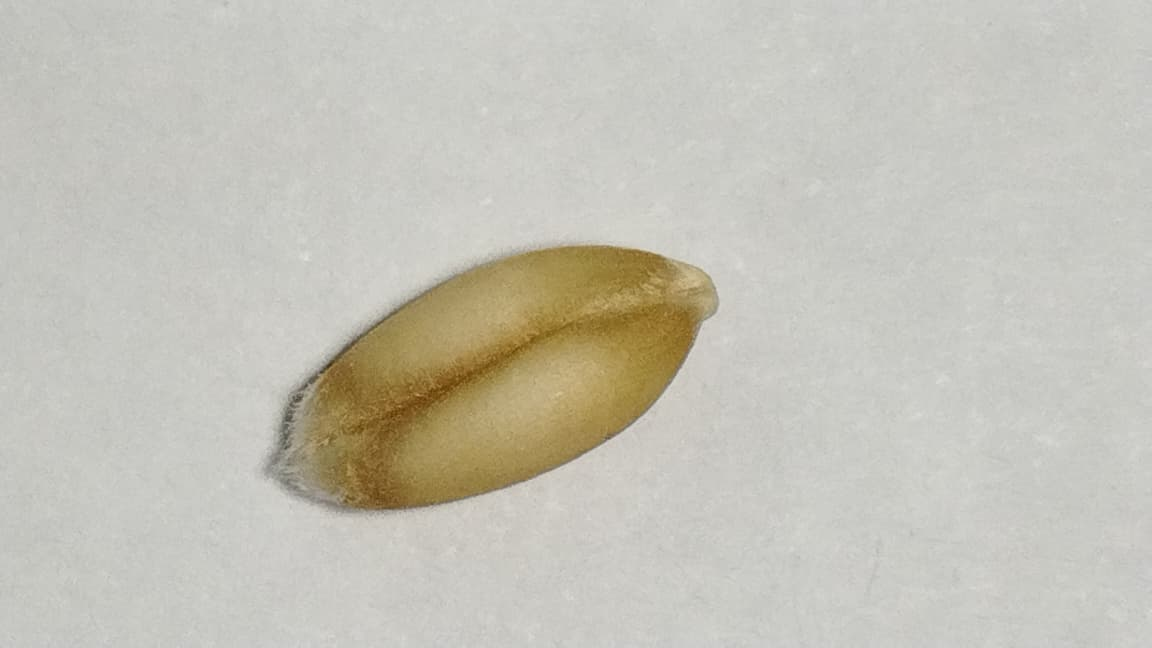healthy: (282, 247, 714, 507)
